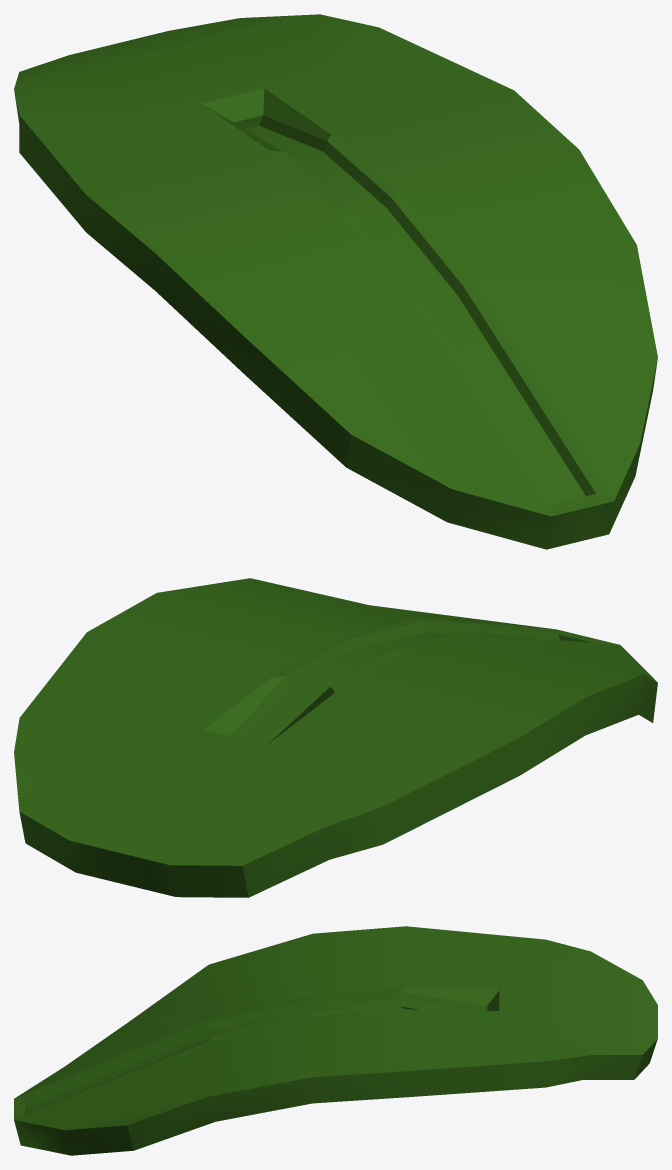
The model's file is Big lead 1.fbx.
The picture shows the model from 3 angles, top to bottom: view 1: azimuth 30°, elevation 25°; view 2: azimuth 150°, elevation 25°; view 3: azimuth 270°, elevation 25°; orthographic projection. The views are drawn at different scales.
Visible parts, largest first — view 1: pCube17; view 2: pCube17; view 3: pCube17.
Boxes of the visible parts, box(x1,y1,x2,y2) form: pCube17: box(14, 14, 657, 549); pCube17: box(14, 578, 657, 897); pCube17: box(14, 926, 657, 1155).
Bounding box in the file's own units: 2.3 × 1.01 × 4.31.
